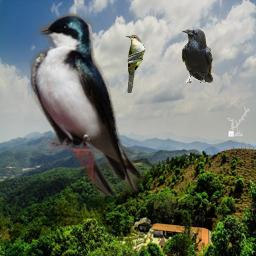Crow: (181, 28, 213, 83)
Cuckoo: (126, 35, 145, 93)
Swallow: (29, 13, 142, 196)
